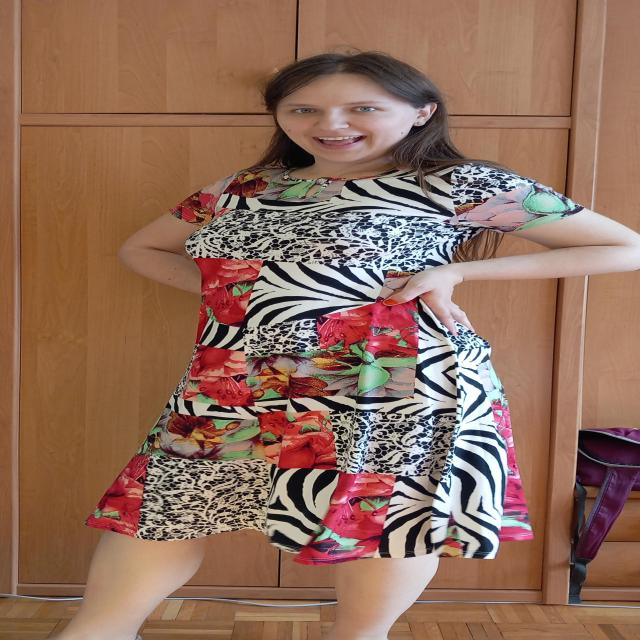dress: (82, 162, 588, 566)
